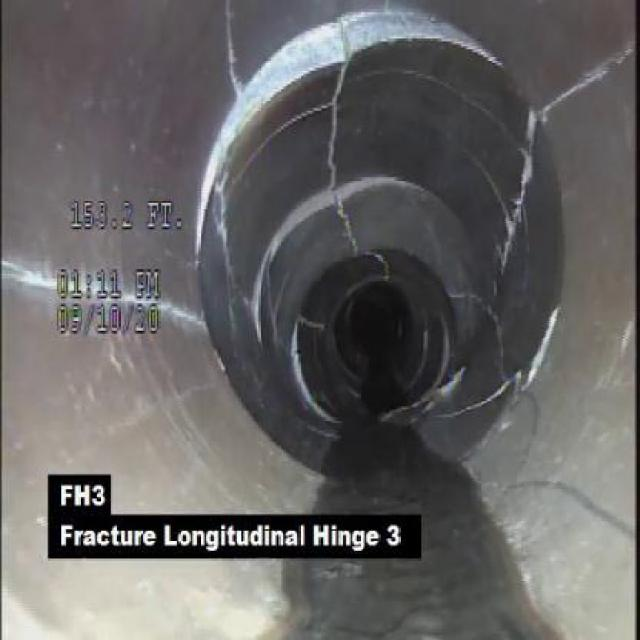Crack: (512, 401, 630, 554), (5, 260, 200, 328), (496, 128, 542, 268), (542, 49, 636, 117), (524, 298, 564, 391), (323, 100, 345, 197)
Joint offset: (349, 5, 509, 68), (244, 14, 336, 101)
